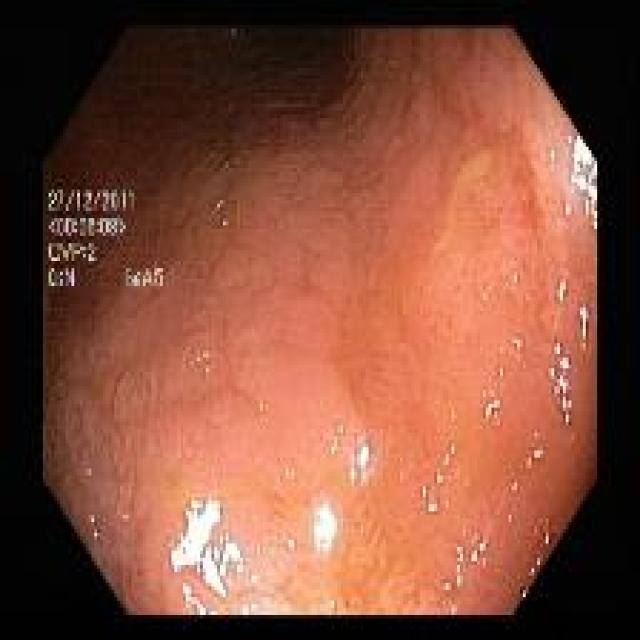ulcerative-colitis: (45, 28, 598, 616)
